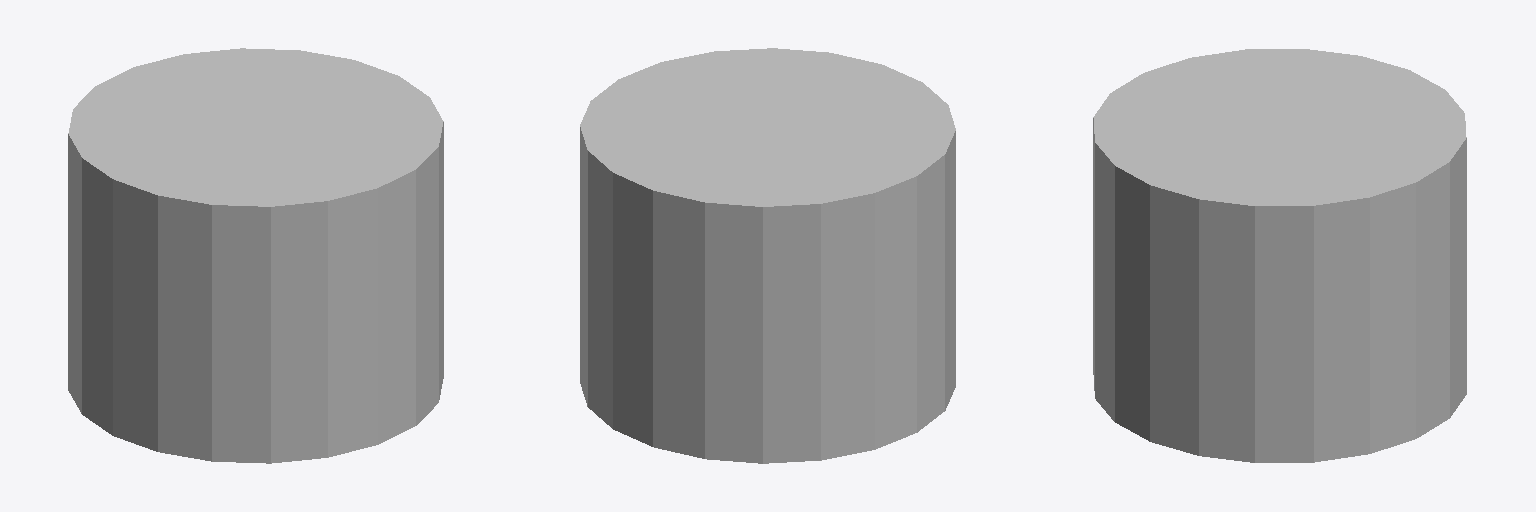
File: Resaltado_Nervio_supraclavicular_D_2.obj
3 renders of one model, left to right at view 1: azimuth 30°, elevation 25°; view 2: azimuth 150°, elevation 25°; view 3: azimuth 270°, elevation 25°, orthographic.
Parts seen in each view (by area): view 1: polySurface16 Marcadores1; view 2: polySurface16 Marcadores1; view 3: polySurface16 Marcadores1.
Part boxes in pixels (x1,y1,x2,y2): polySurface16 Marcadores1: (68,48,443,463); polySurface16 Marcadores1: (580,48,955,463); polySurface16 Marcadores1: (1093,49,1466,462).
Bounding box in the file's own units: 0.0277 × 0.021 × 0.0277.